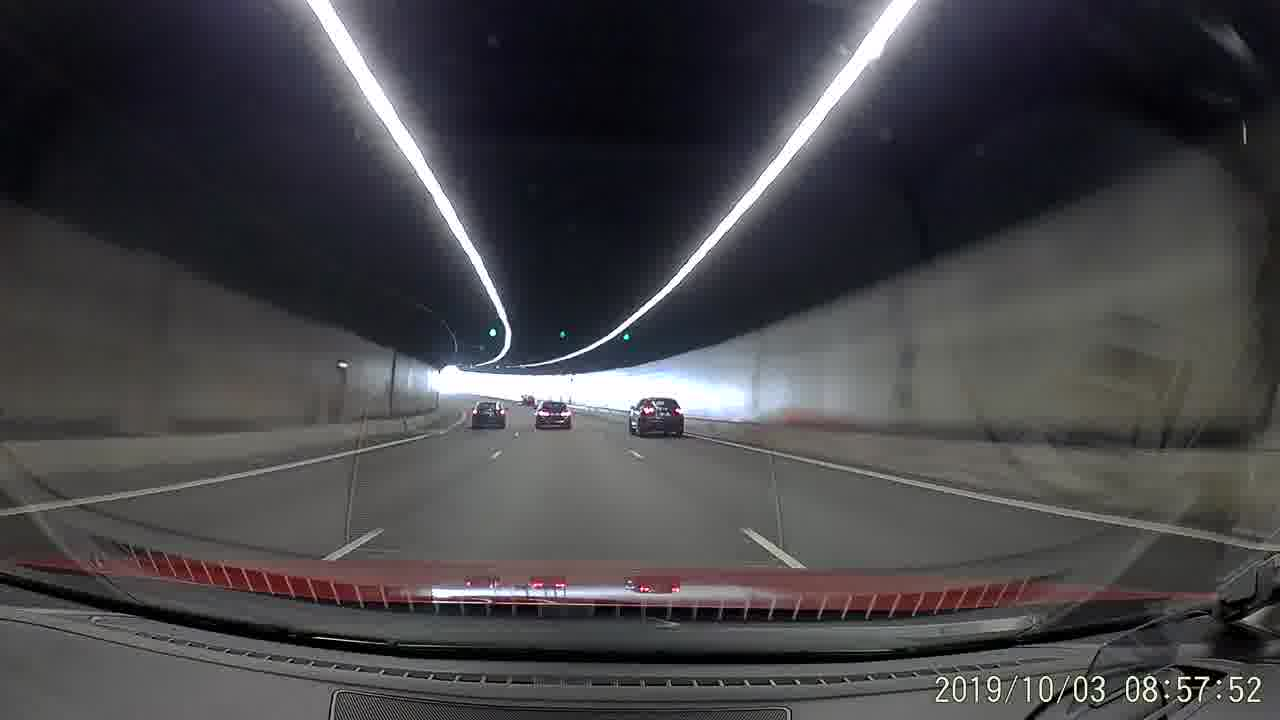car: (627, 395, 689, 439), (530, 400, 576, 431), (470, 399, 508, 430)
